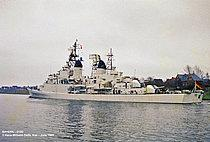MIL_Ship: (26, 39, 205, 104)
